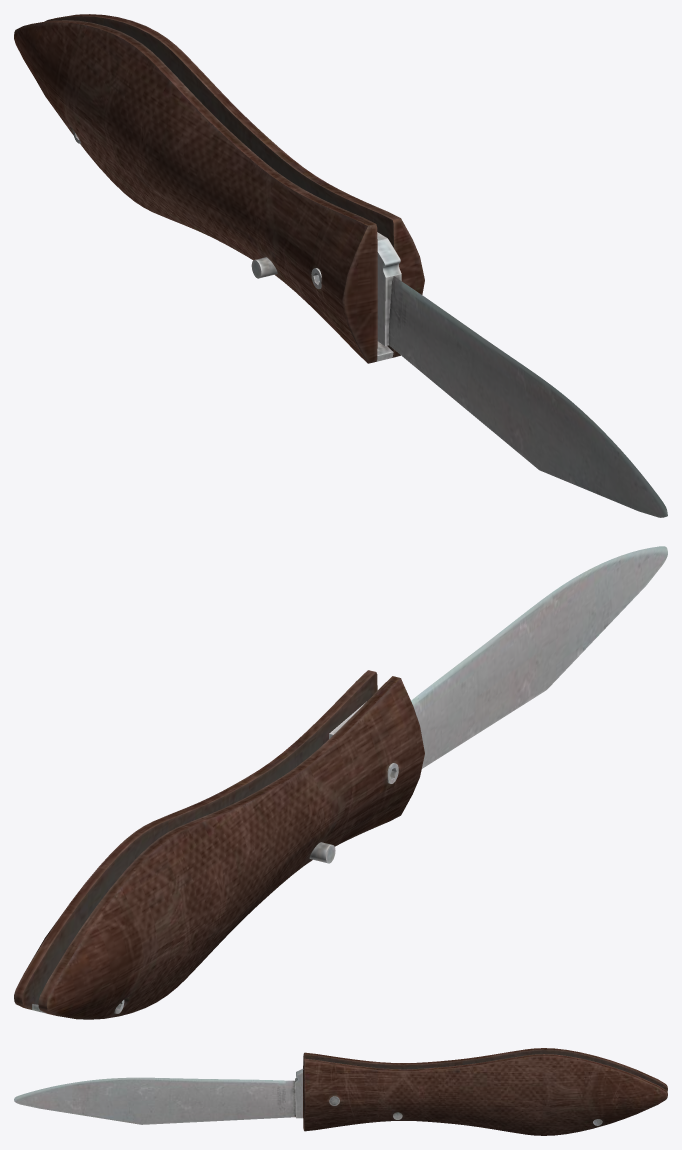
File: faca.glb
The picture shows the model from 3 angles, top to bottom: view 1: azimuth 30°, elevation 25°; view 2: azimuth 150°, elevation 25°; view 3: azimuth 270°, elevation 25°; orthographic projection. The views are drawn at different scales.
Parts seen in each view (by area): view 1: Malha; view 2: Malha; view 3: Malha.
Boxes of the visible parts, x1,y1,x2,y2 form: Malha: (14, 14, 667, 517); Malha: (14, 546, 667, 1019); Malha: (14, 1048, 667, 1135).
Bounding box in the file's own units: 0.0226 × 0.0404 × 0.3.
1 material, 1 textured.
